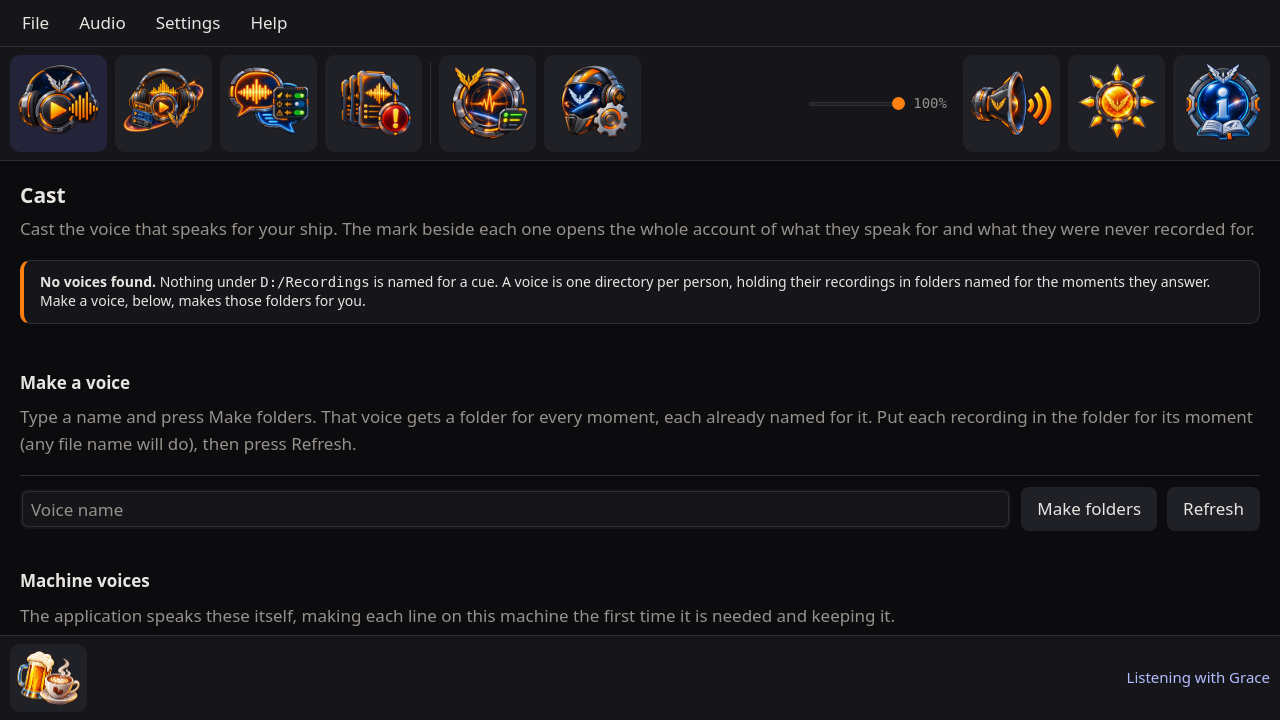
Test: the menu bar › reaches the cast and the audition from Audio
What coordinates should you click on to do the following:
click the button "Audio"
I would click on:
 (102, 23)
Its box is 65,4 -> 140,42.
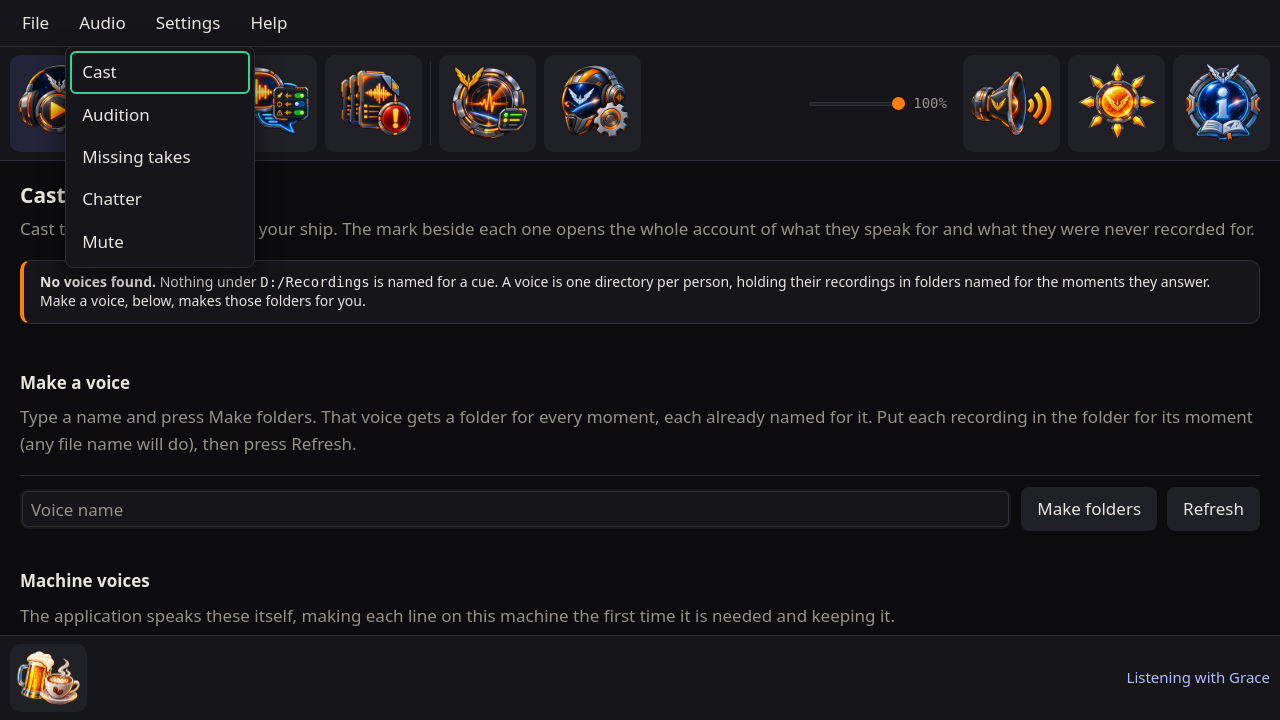
What coordinates should you click on to do the following:
click the button "Audition"
I would click on:
 (160, 115)
Its box is 70,94 -> 250,136.
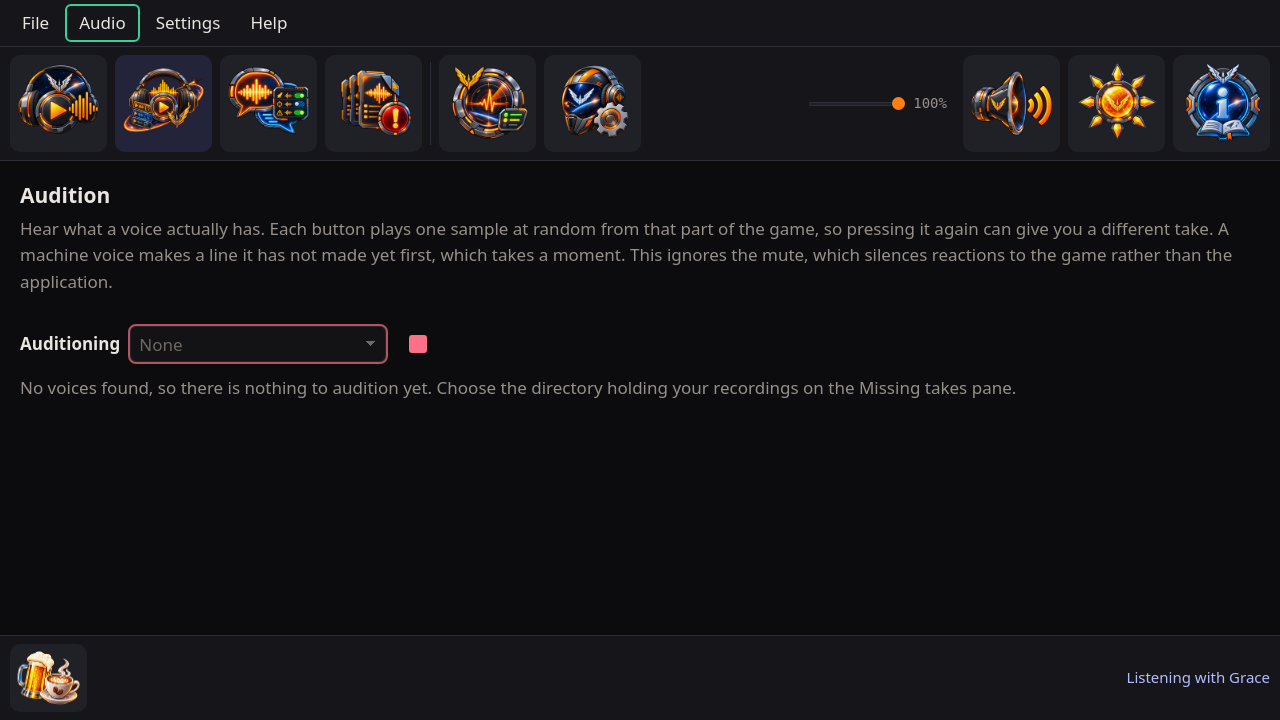
Now the heading "Audition" is shown, box 20,181 -> 110,209
What coordinates should you click on to do the following:
click the button "Audio"
I would click on:
 (102, 23)
Its box is 65,4 -> 140,42.
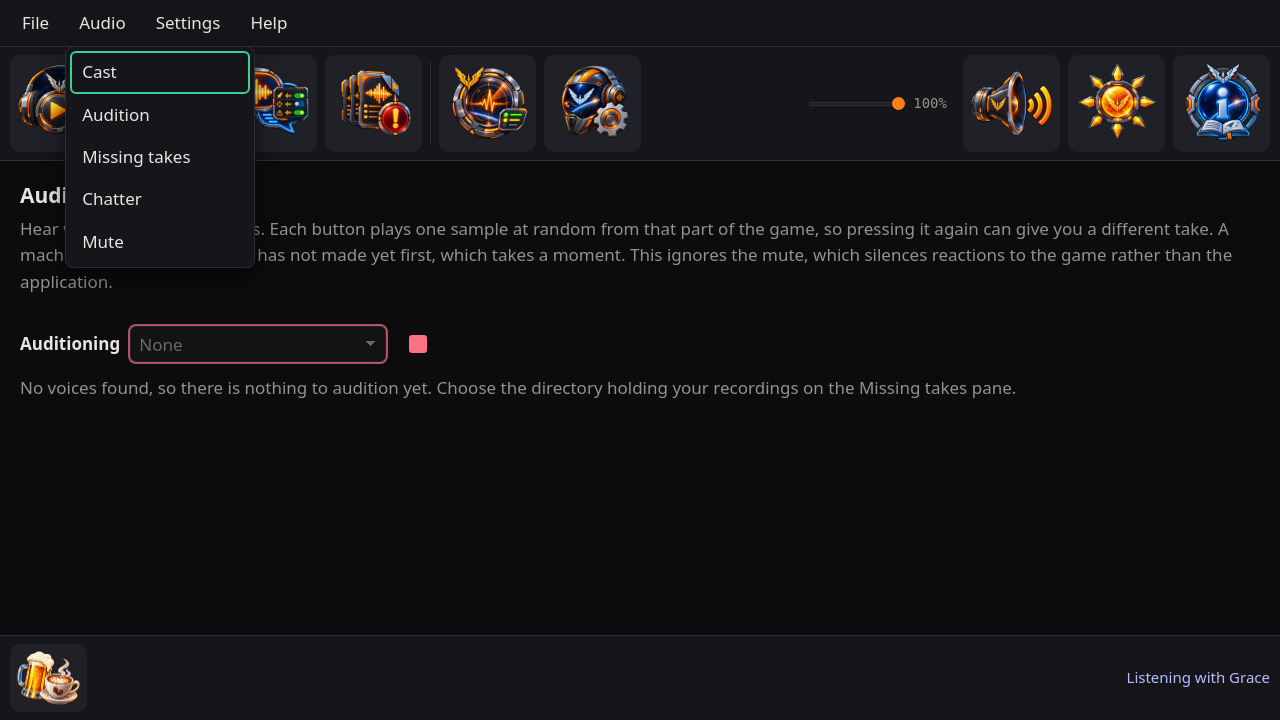
What coordinates should you click on to do the following:
click the button "Cast"
I would click on:
 (160, 72)
Its box is 70,51 -> 250,94.
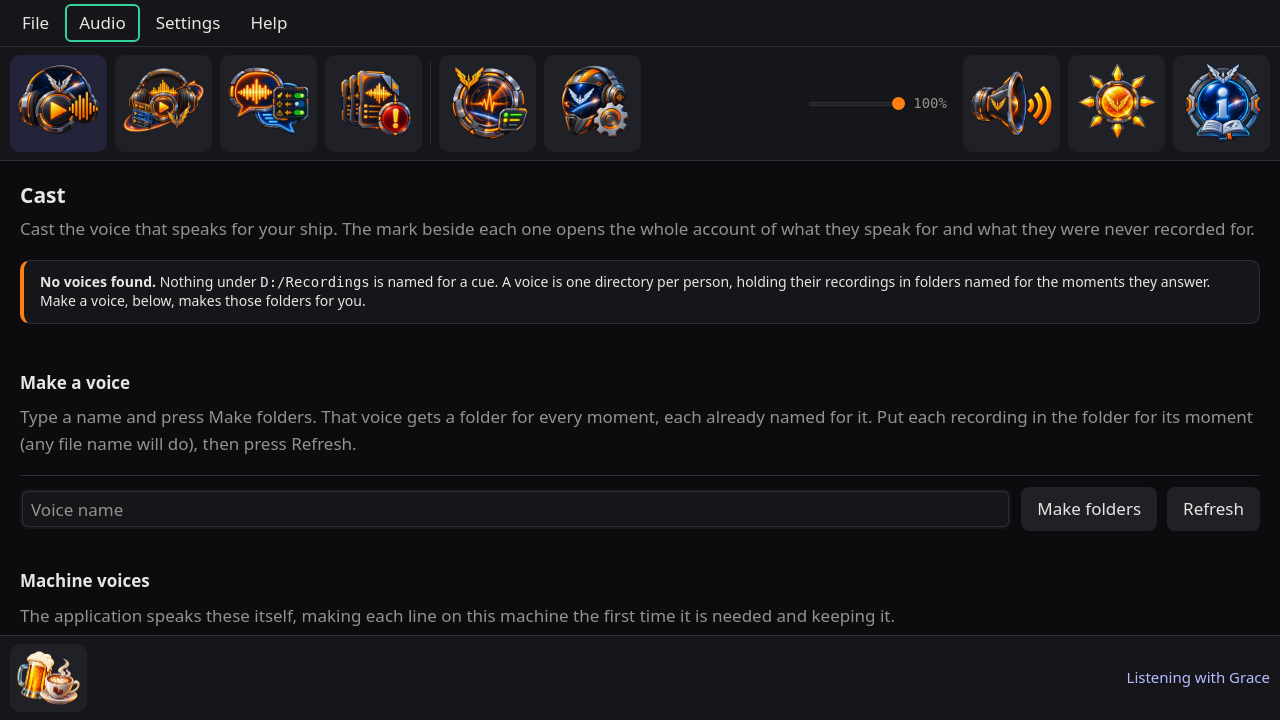
Now the heading "Cast" is shown, box 20,181 -> 66,209
